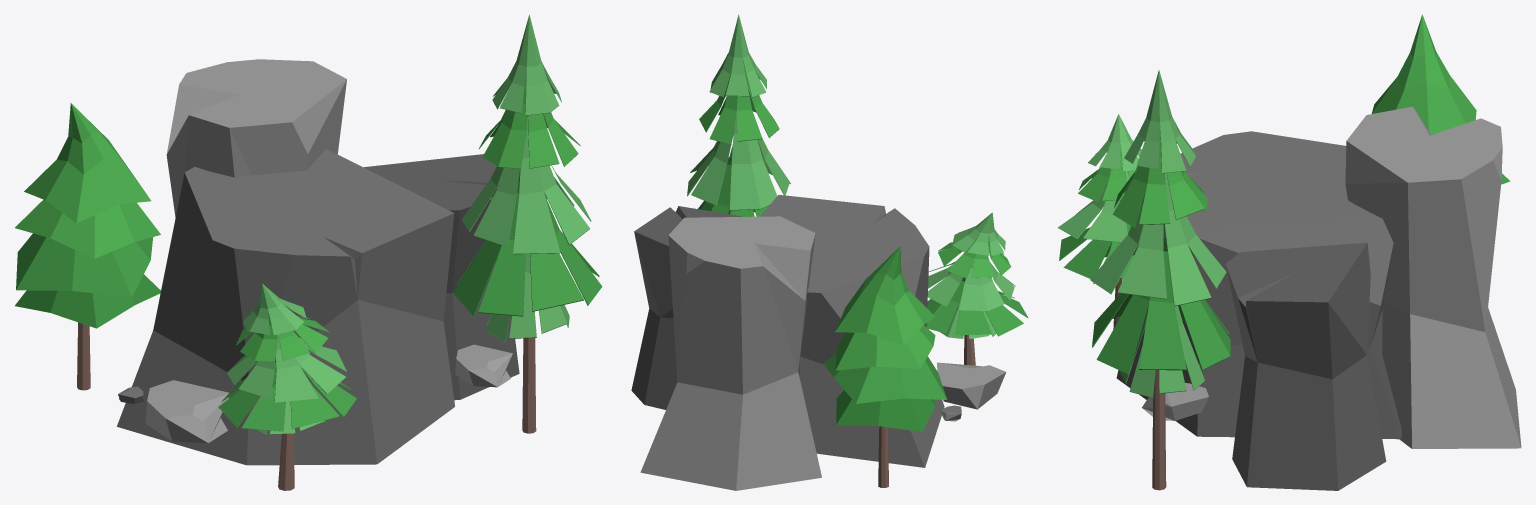
The model's file is stones_012.glb.
3 views of the same model, side by side, from view 1: azimuth 30°, elevation 25°; view 2: azimuth 150°, elevation 25°; view 3: azimuth 270°, elevation 25° (orthographic). The views are drawn at different scales.
Visible parts, largest first — view 1: stones_012; view 2: stones_012; view 3: stones_012.
Boxes of the visible parts, box(x1,y1,x2,y2) form: stones_012: box(15, 14, 602, 490); stones_012: box(631, 14, 1028, 490); stones_012: box(1058, 14, 1521, 490).
Size of the model in its own units: 15.14 by 13.61 by 13.68.
1 material, 1 textured.
